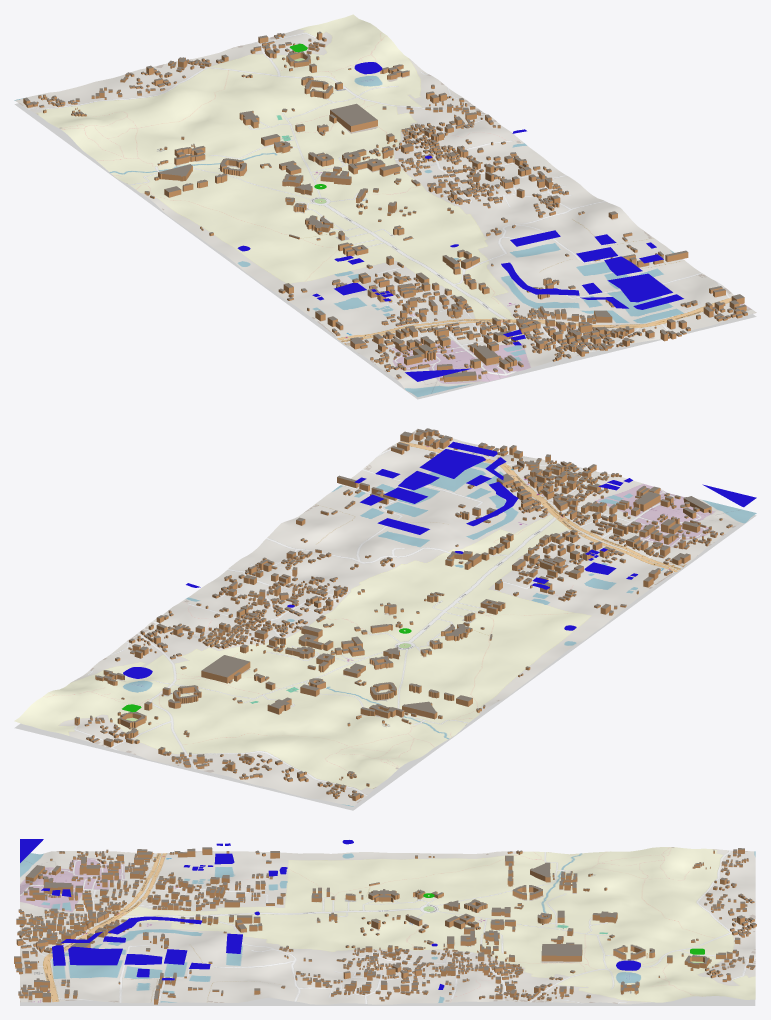
File: sust_map_2.dae
3 renders of one model, top to bottom at view 1: azimuth 30°, elevation 25°; view 2: azimuth 150°, elevation 25°; view 3: azimuth 270°, elevation 25°, orthographic. The views are drawn at different scales.
Visible parts, largest first — view 1: Terrain, map_23.osm_buildings, map_23.osm_water, Terrain_envelope; view 2: Terrain, map_23.osm_buildings, map_23.osm_water, Terrain_envelope; view 3: Terrain, map_23.osm_buildings, map_23.osm_water, Terrain_envelope.
Boxes of the visible parts, bbox=[...] form: Terrain: bbox=[14, 14, 756, 397]; map_23.osm_buildings: bbox=[23, 31, 747, 382]; map_23.osm_water: bbox=[237, 62, 683, 381]; Terrain_envelope: bbox=[14, 103, 756, 399]; Terrain: bbox=[14, 428, 756, 806]; map_23.osm_buildings: bbox=[74, 428, 732, 800]; map_23.osm_water: bbox=[123, 441, 756, 678]; Terrain_envelope: bbox=[14, 515, 756, 810]; Terrain: bbox=[20, 847, 755, 1004]; map_23.osm_buildings: bbox=[14, 847, 756, 1004]; map_23.osm_water: bbox=[20, 839, 640, 989]; Terrain_envelope: bbox=[20, 996, 755, 1005].
Size of the model in its own units: 1081 by 2217 by 53.
5 materials, 1 textured.
